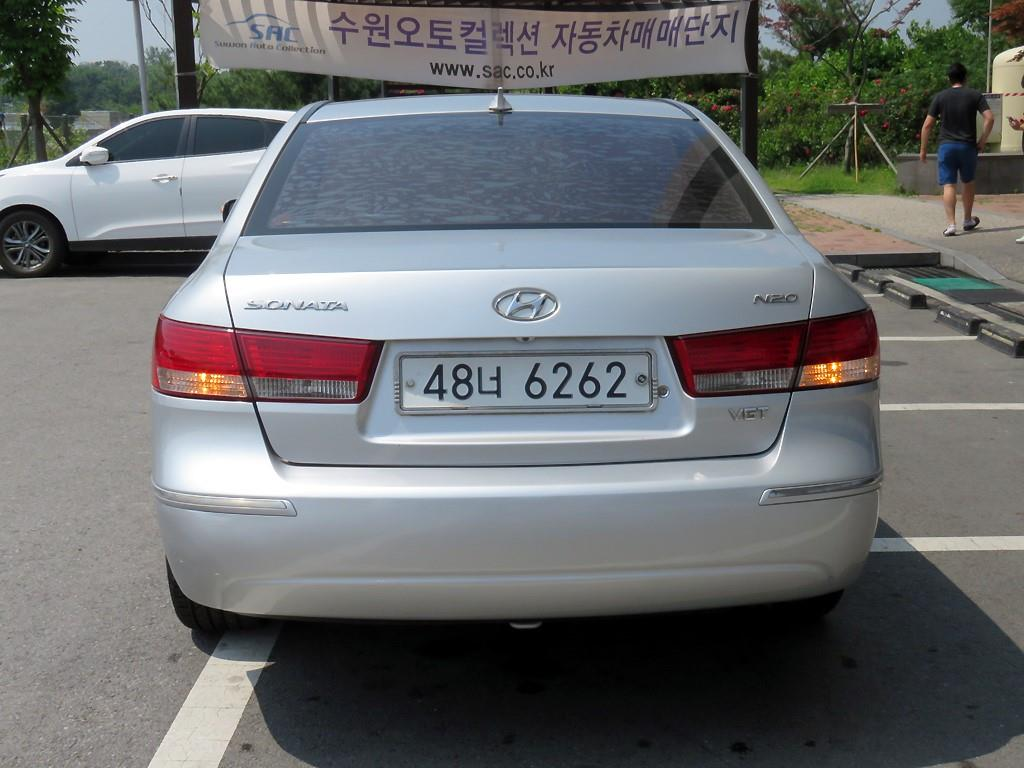plate: (402, 354, 651, 408)
